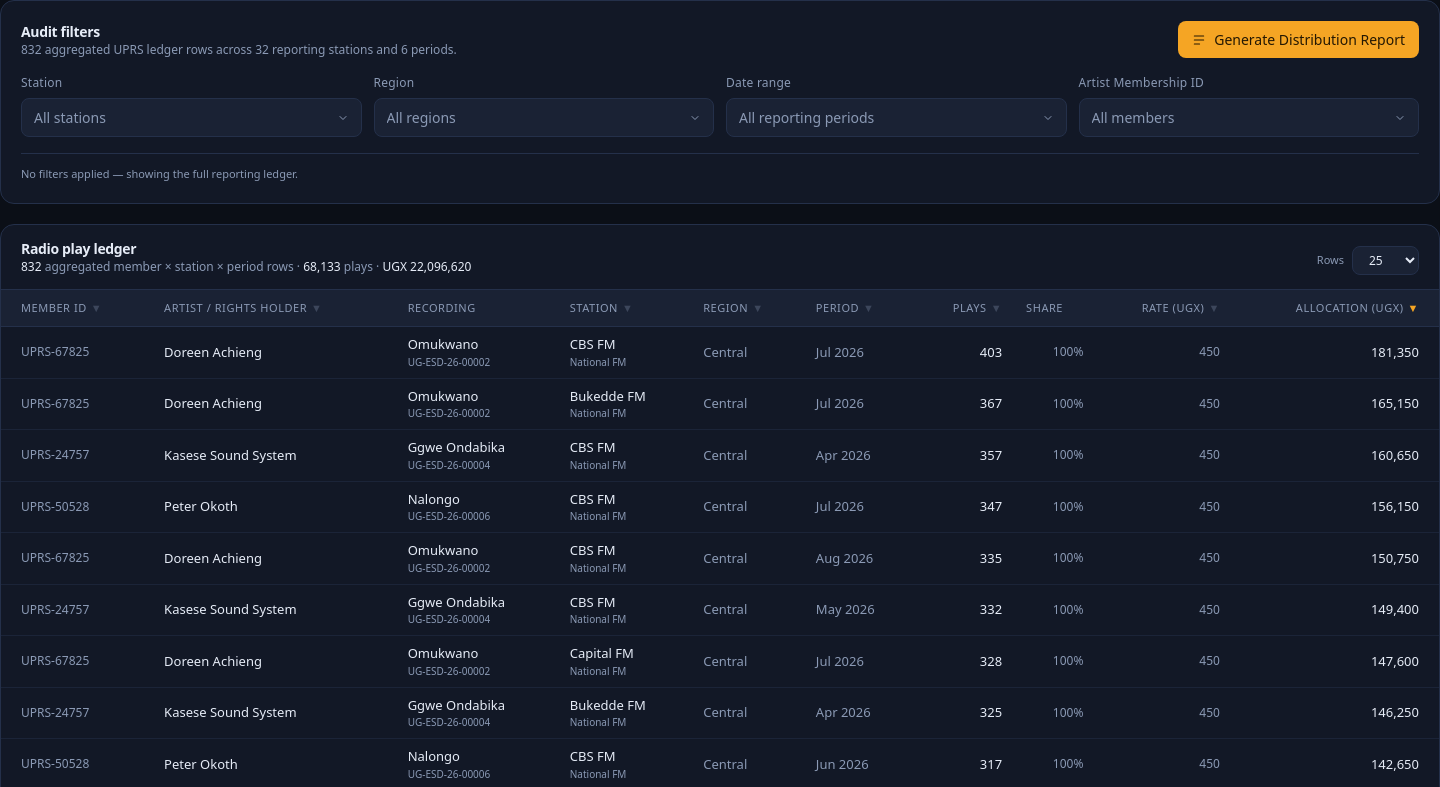
Test: CmoAudit › generates a report over the filtered ledger
The width and height of the screenshot is (1440, 787).
Click the button "Generate Distribution Report": click(1299, 40) left=1178, top=21, right=1419, bottom=58
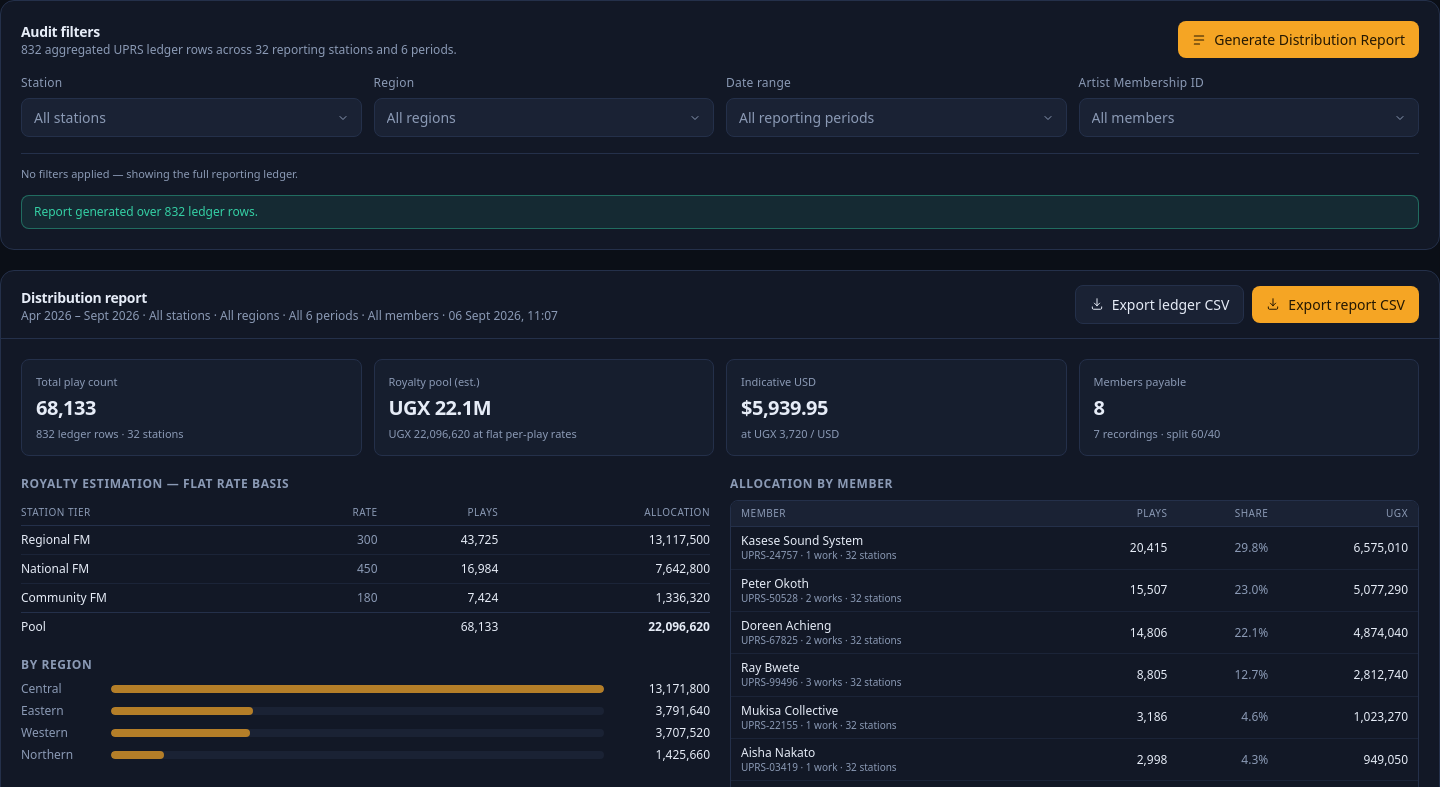
expect the heading "Distribution report" is shown: met, box left=21, top=288, right=147, bottom=306
expect the text "Total play count" is shown: met, box left=36, top=374, right=118, bottom=388
expect the text "Report generated over 832 ledger rows." is shown: met, box left=21, top=194, right=1419, bottom=228
